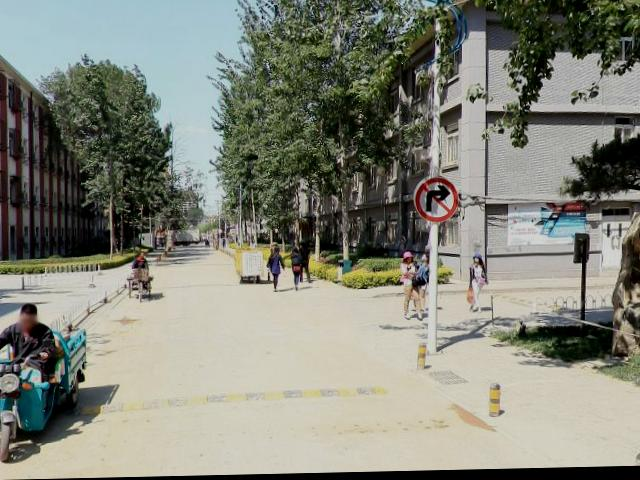not_turn_right: (414, 172, 460, 231)
